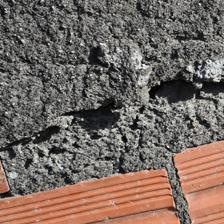Crack: (22, 84, 99, 139), (81, 45, 143, 89)
